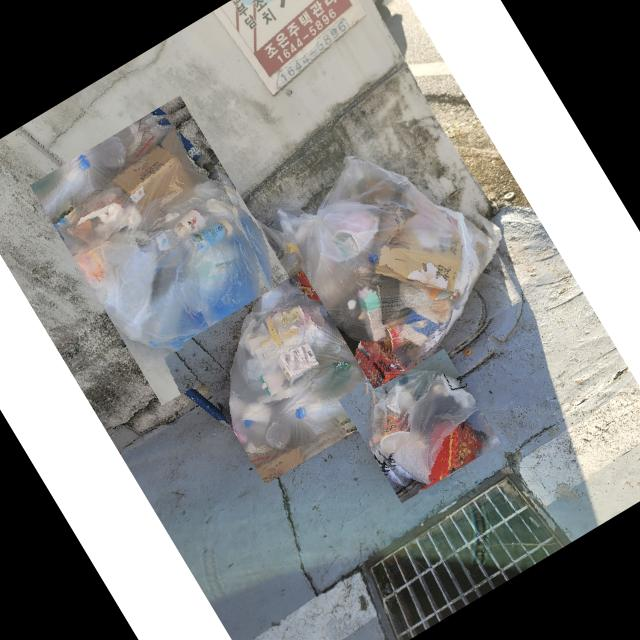other_trashbag: (56, 121, 262, 375), (279, 159, 497, 366), (231, 287, 377, 453), (372, 371, 493, 486)
